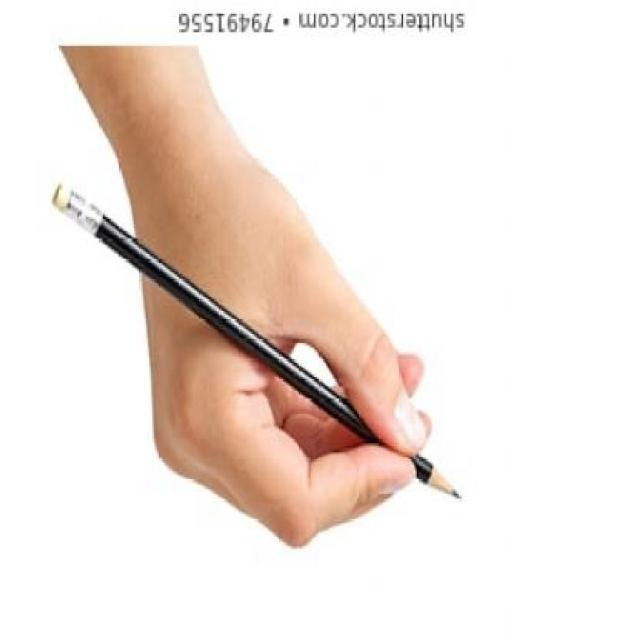Pencil: (413, 456, 465, 510)
